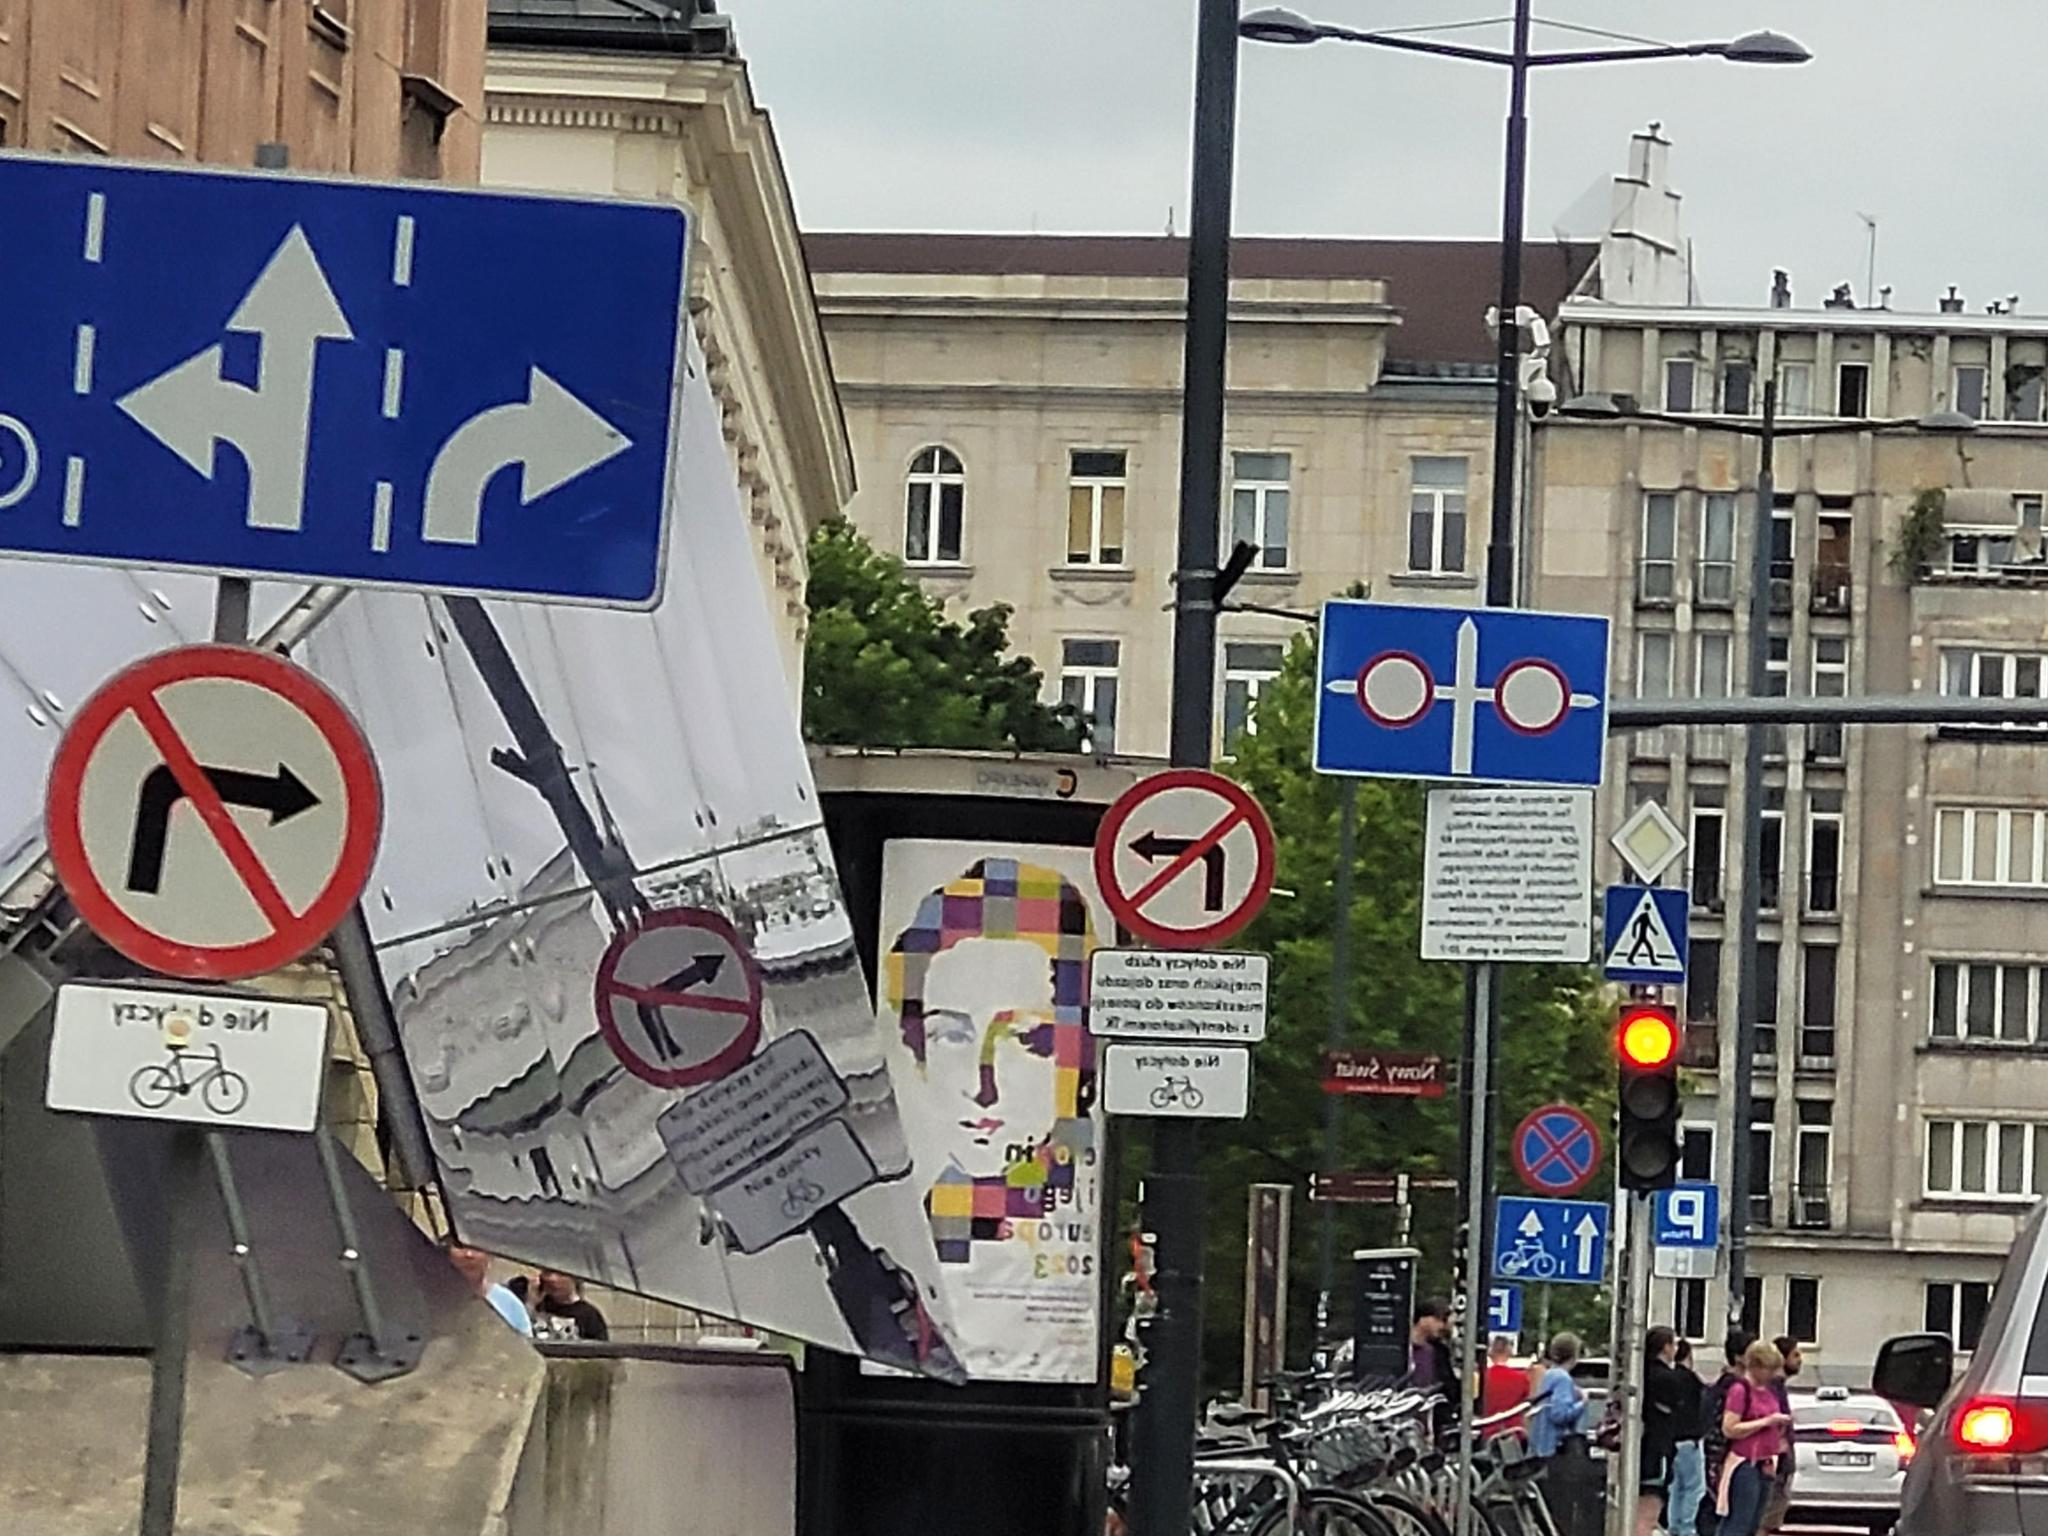information: (1605, 889, 1685, 984), (1606, 799, 1690, 886), (1653, 1184, 1716, 1246)
other: (0, 181, 692, 600), (1314, 610, 1608, 781), (47, 992, 327, 1133), (1427, 791, 1593, 962), (1092, 955, 1271, 1042), (1103, 1049, 1250, 1117), (1496, 1200, 1601, 1284), (1651, 1247, 1717, 1279)
prohibitory: (45, 642, 384, 984), (1092, 766, 1277, 950), (1511, 1104, 1603, 1199)
